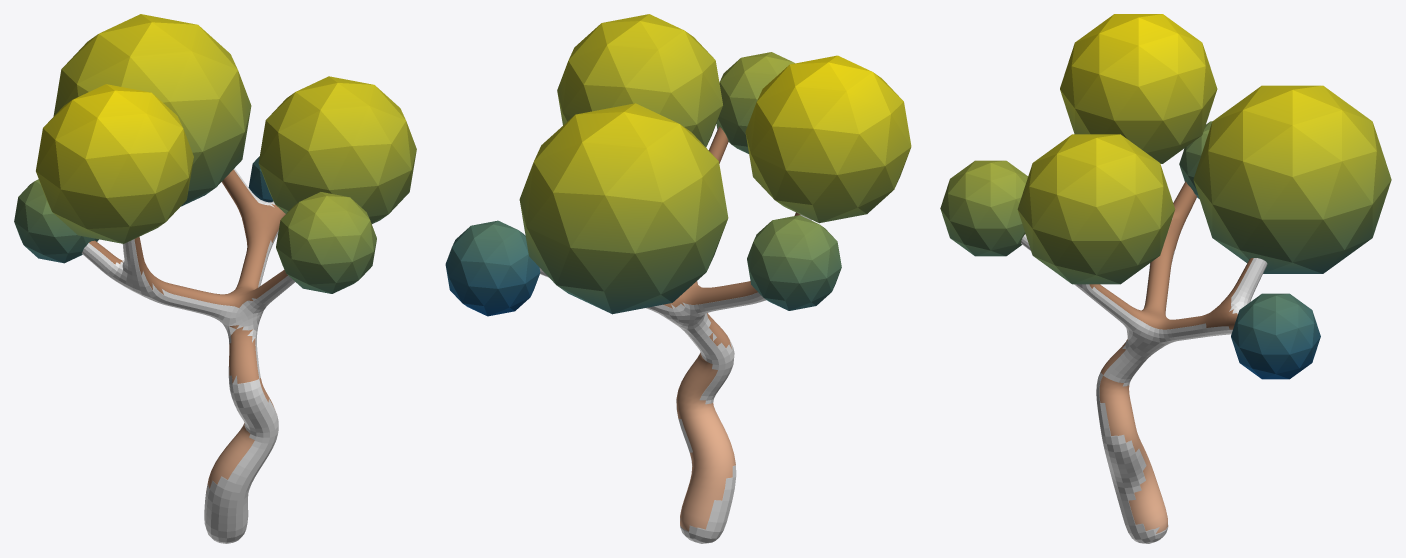
Rendered from gradienttree2.fbx.
3 renders of one model, left to right at view 1: azimuth 30°, elevation 25°; view 2: azimuth 150°, elevation 25°; view 3: azimuth 270°, elevation 25°, orthographic. The views are drawn at different scales.
Parts seen in each view (by area): view 1: Icosphere.005, Trunk.001, Trunk; view 2: Icosphere.005, Trunk, Trunk.001; view 3: Icosphere.005, Trunk, Trunk.001.
Part boxes in pixels (x1,y1,x2,y2): Icosphere.005: (14,14,416,293); Trunk.001: (82,168,294,543); Trunk: (89,169,287,491); Icosphere.005: (445,14,911,316); Trunk: (663,126,800,531); Trunk.001: (539,127,811,543); Icosphere.005: (940,14,1391,379); Trunk: (1089,181,1253,533); Trunk.001: (1021,184,1267,543).
Bounding box in the file's own units: 321 × 417 × 364.
